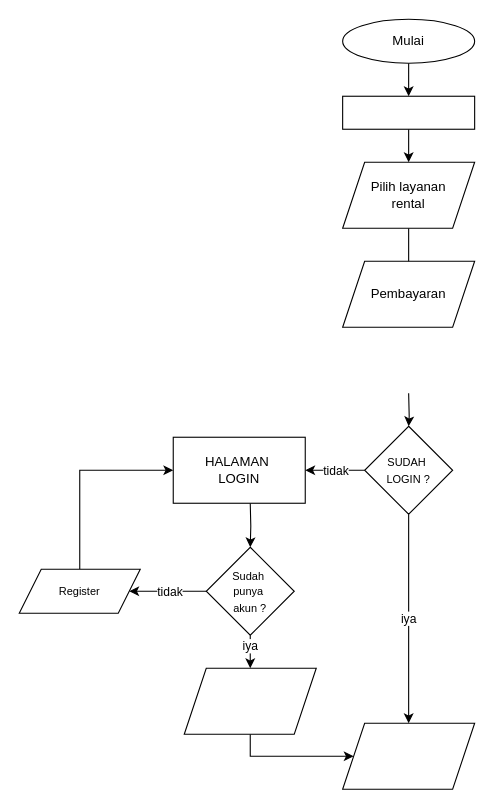
This 494x809 diagram has some shape labels left out. The shapes that lost their labels are listed below. From the top down, each one's box as (x1, y1, x2, y2) in pixels, then its label:
(342, 95, 475, 129): Halaman awal
(183, 667, 316, 734): Login
(342, 722, 475, 789): Verifikasi Pembayaran
